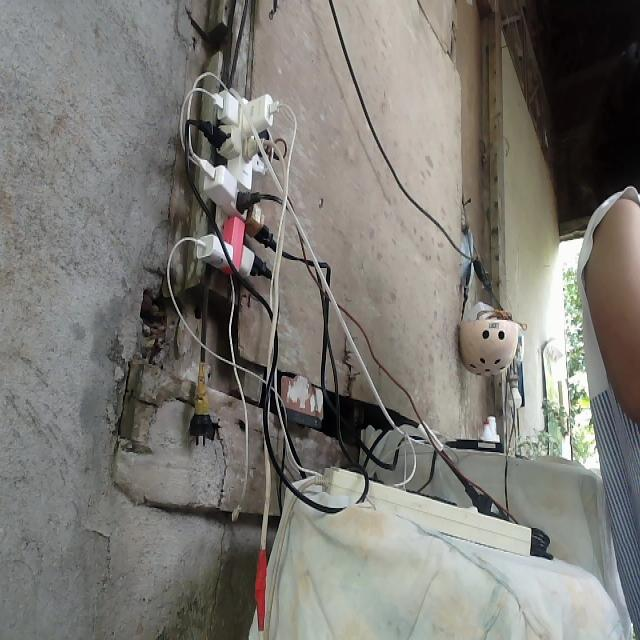-: (187, 84, 289, 281)
